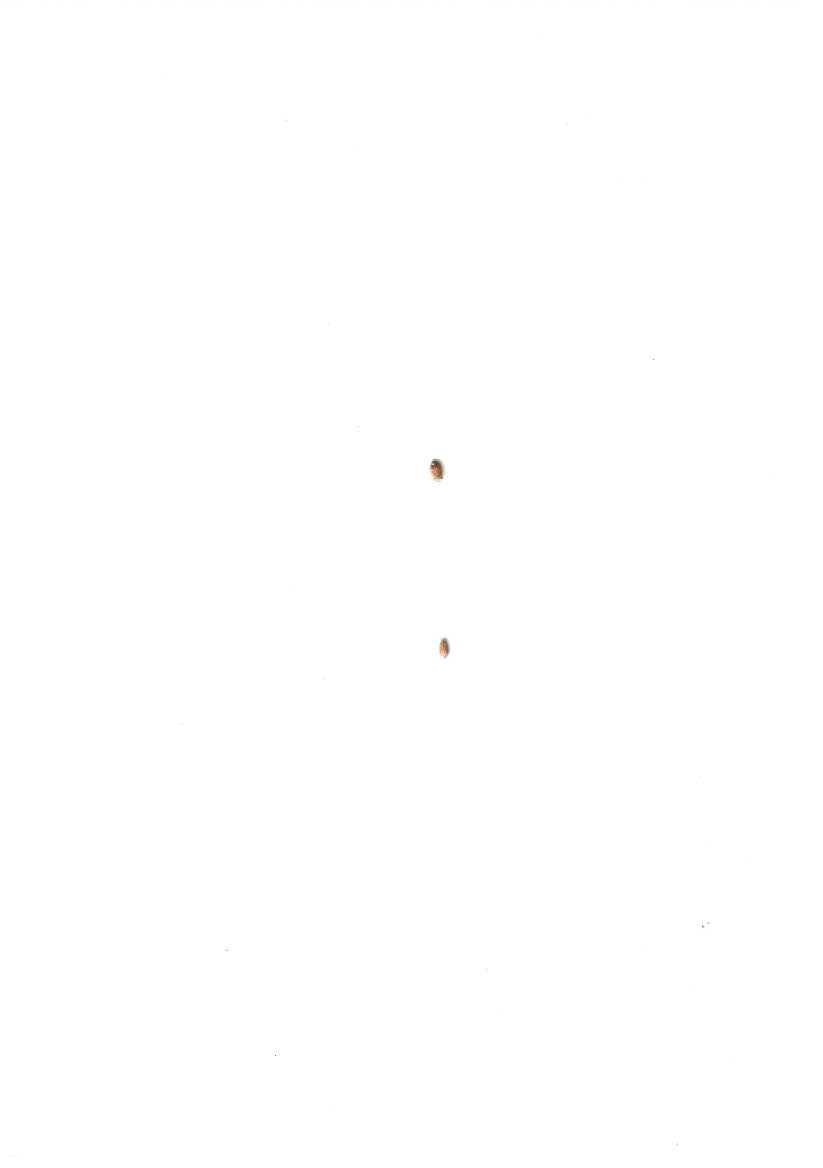grains: (416, 441, 464, 499), (425, 627, 464, 675)
